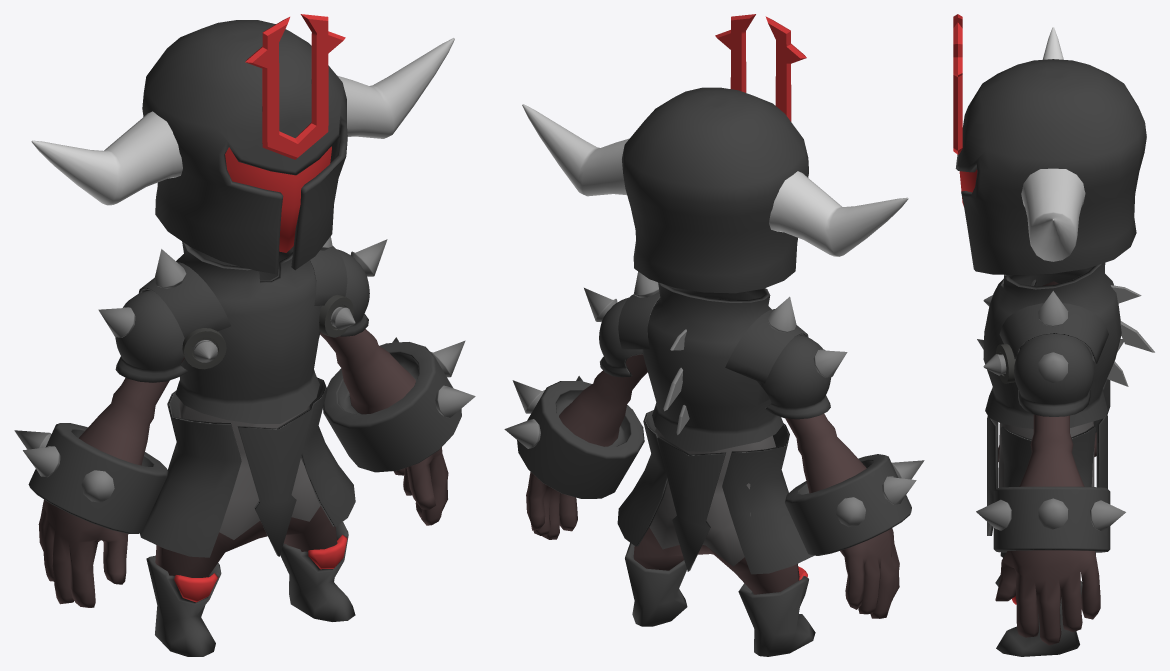
The model's file is com.demensdeum.npc.generic.model.glb.
3 views of the same model, side by side, from view 1: azimuth 30°, elevation 25°; view 2: azimuth 150°, elevation 25°; view 3: azimuth 270°, elevation 25° (orthographic). The views are drawn at different scales.
Visible parts, largest first — view 1: Object_5; view 2: Object_5; view 3: Object_5.
Boxes of the visible parts, x1,y1,x2,y2 form: Object_5: (14, 14, 475, 656); Object_5: (504, 14, 924, 656); Object_5: (953, 14, 1154, 656).
Bounding box in the file's own units: 0.8958 × 1.23 × 0.3799.
7 materials, 6 textured.
